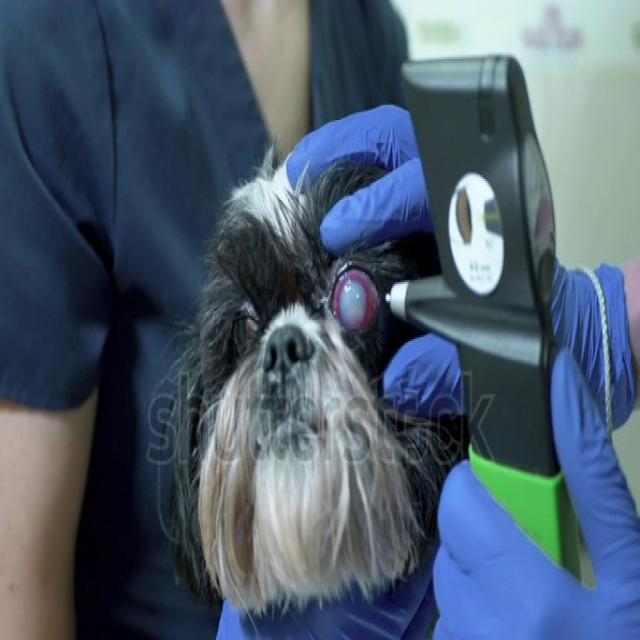injured-animals: (149, 135, 467, 632)
